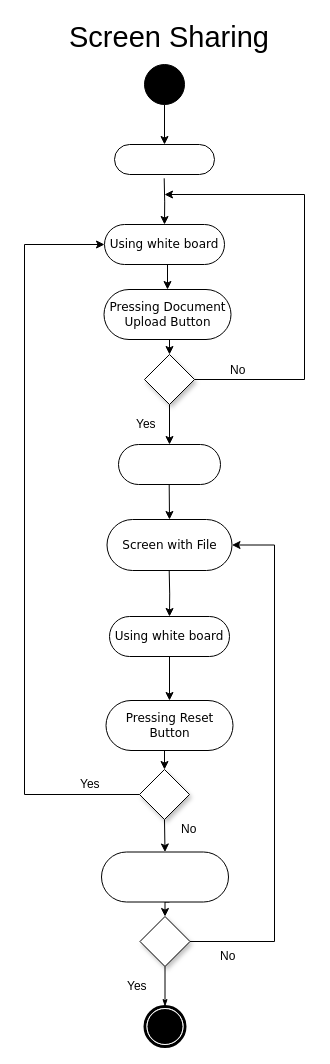
The diagram is 330 pixels wide and 1064 high, and some of its shapes have lost their labels. The centre of each missing label's shape, as x and y in pixels:
Making Classroom: point (164, 159)
Pressing Close Button: point (164, 876)
Select File: point (169, 464)
